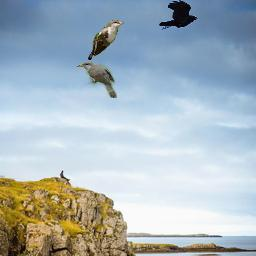Crow: (159, 0, 199, 30)
Cuckoo: (77, 62, 117, 98), (88, 20, 124, 60)
